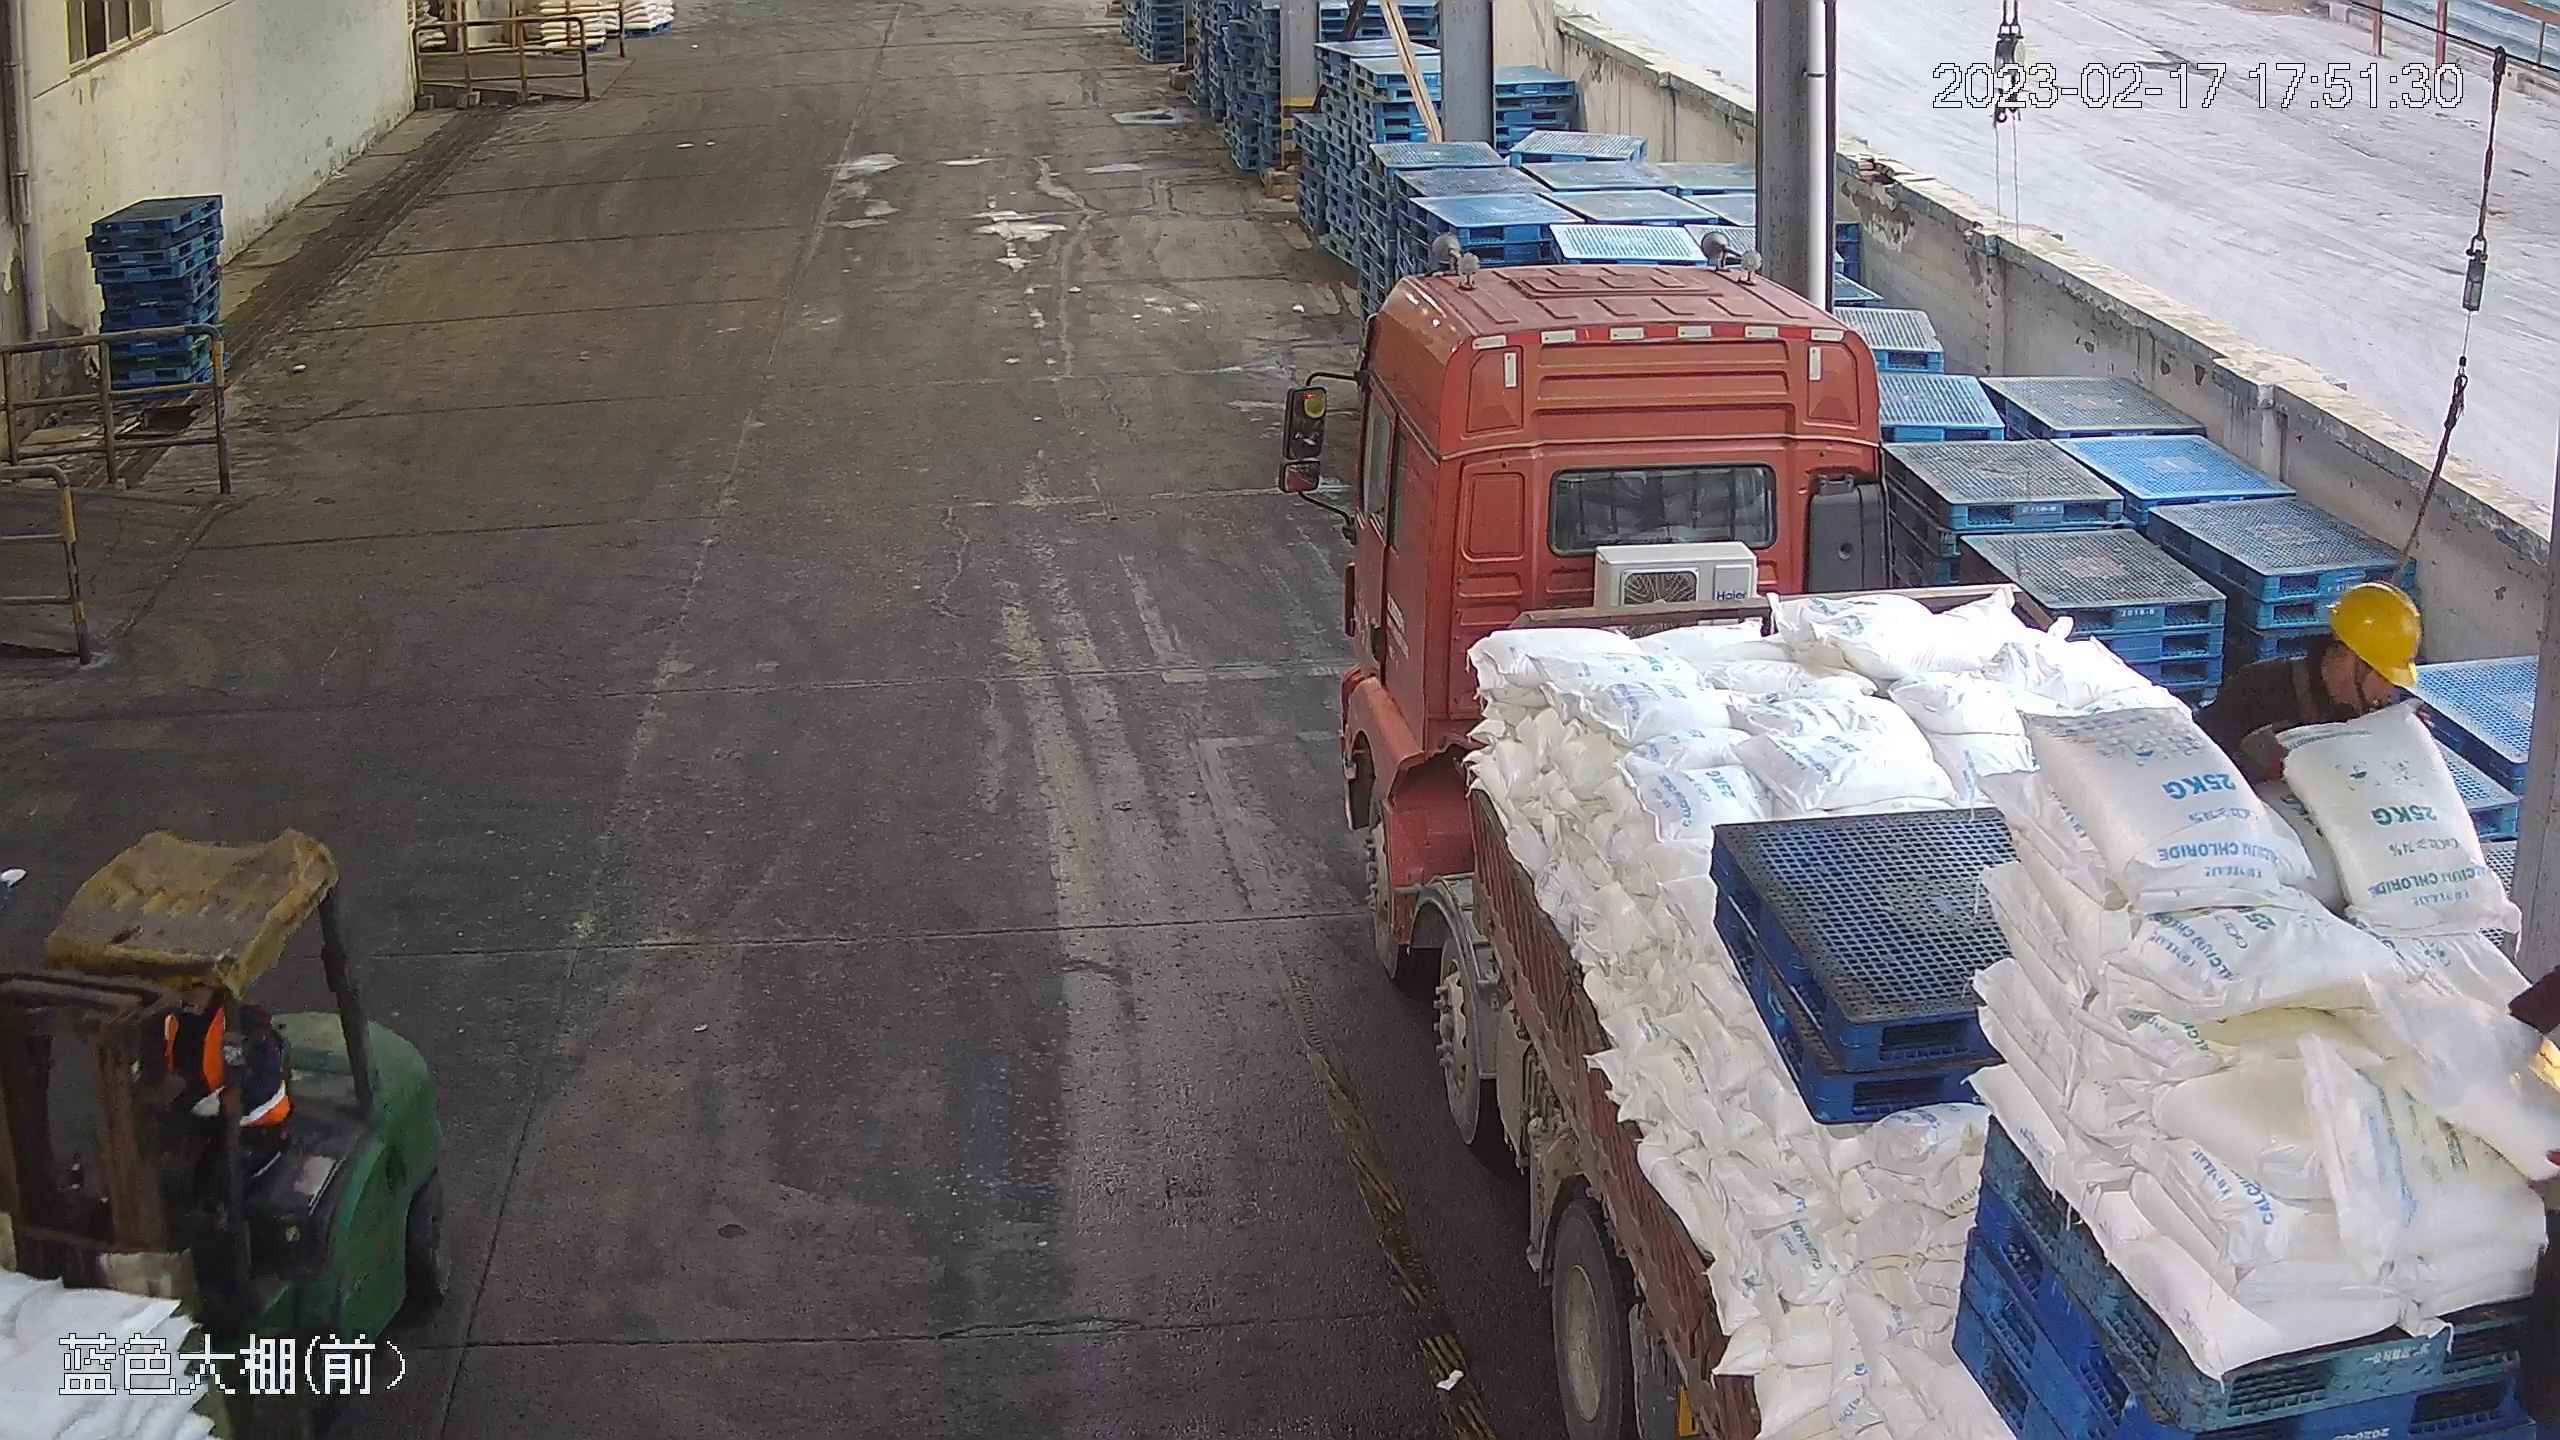belt: (2293, 646, 2362, 736)
head: (2240, 577, 2422, 725)
helmet: (2328, 579, 2422, 686)
truck: (1281, 233, 2560, 1440)
